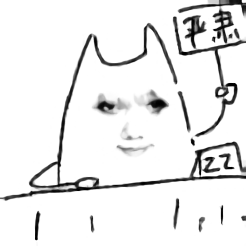dragon: (95, 91, 171, 158)
